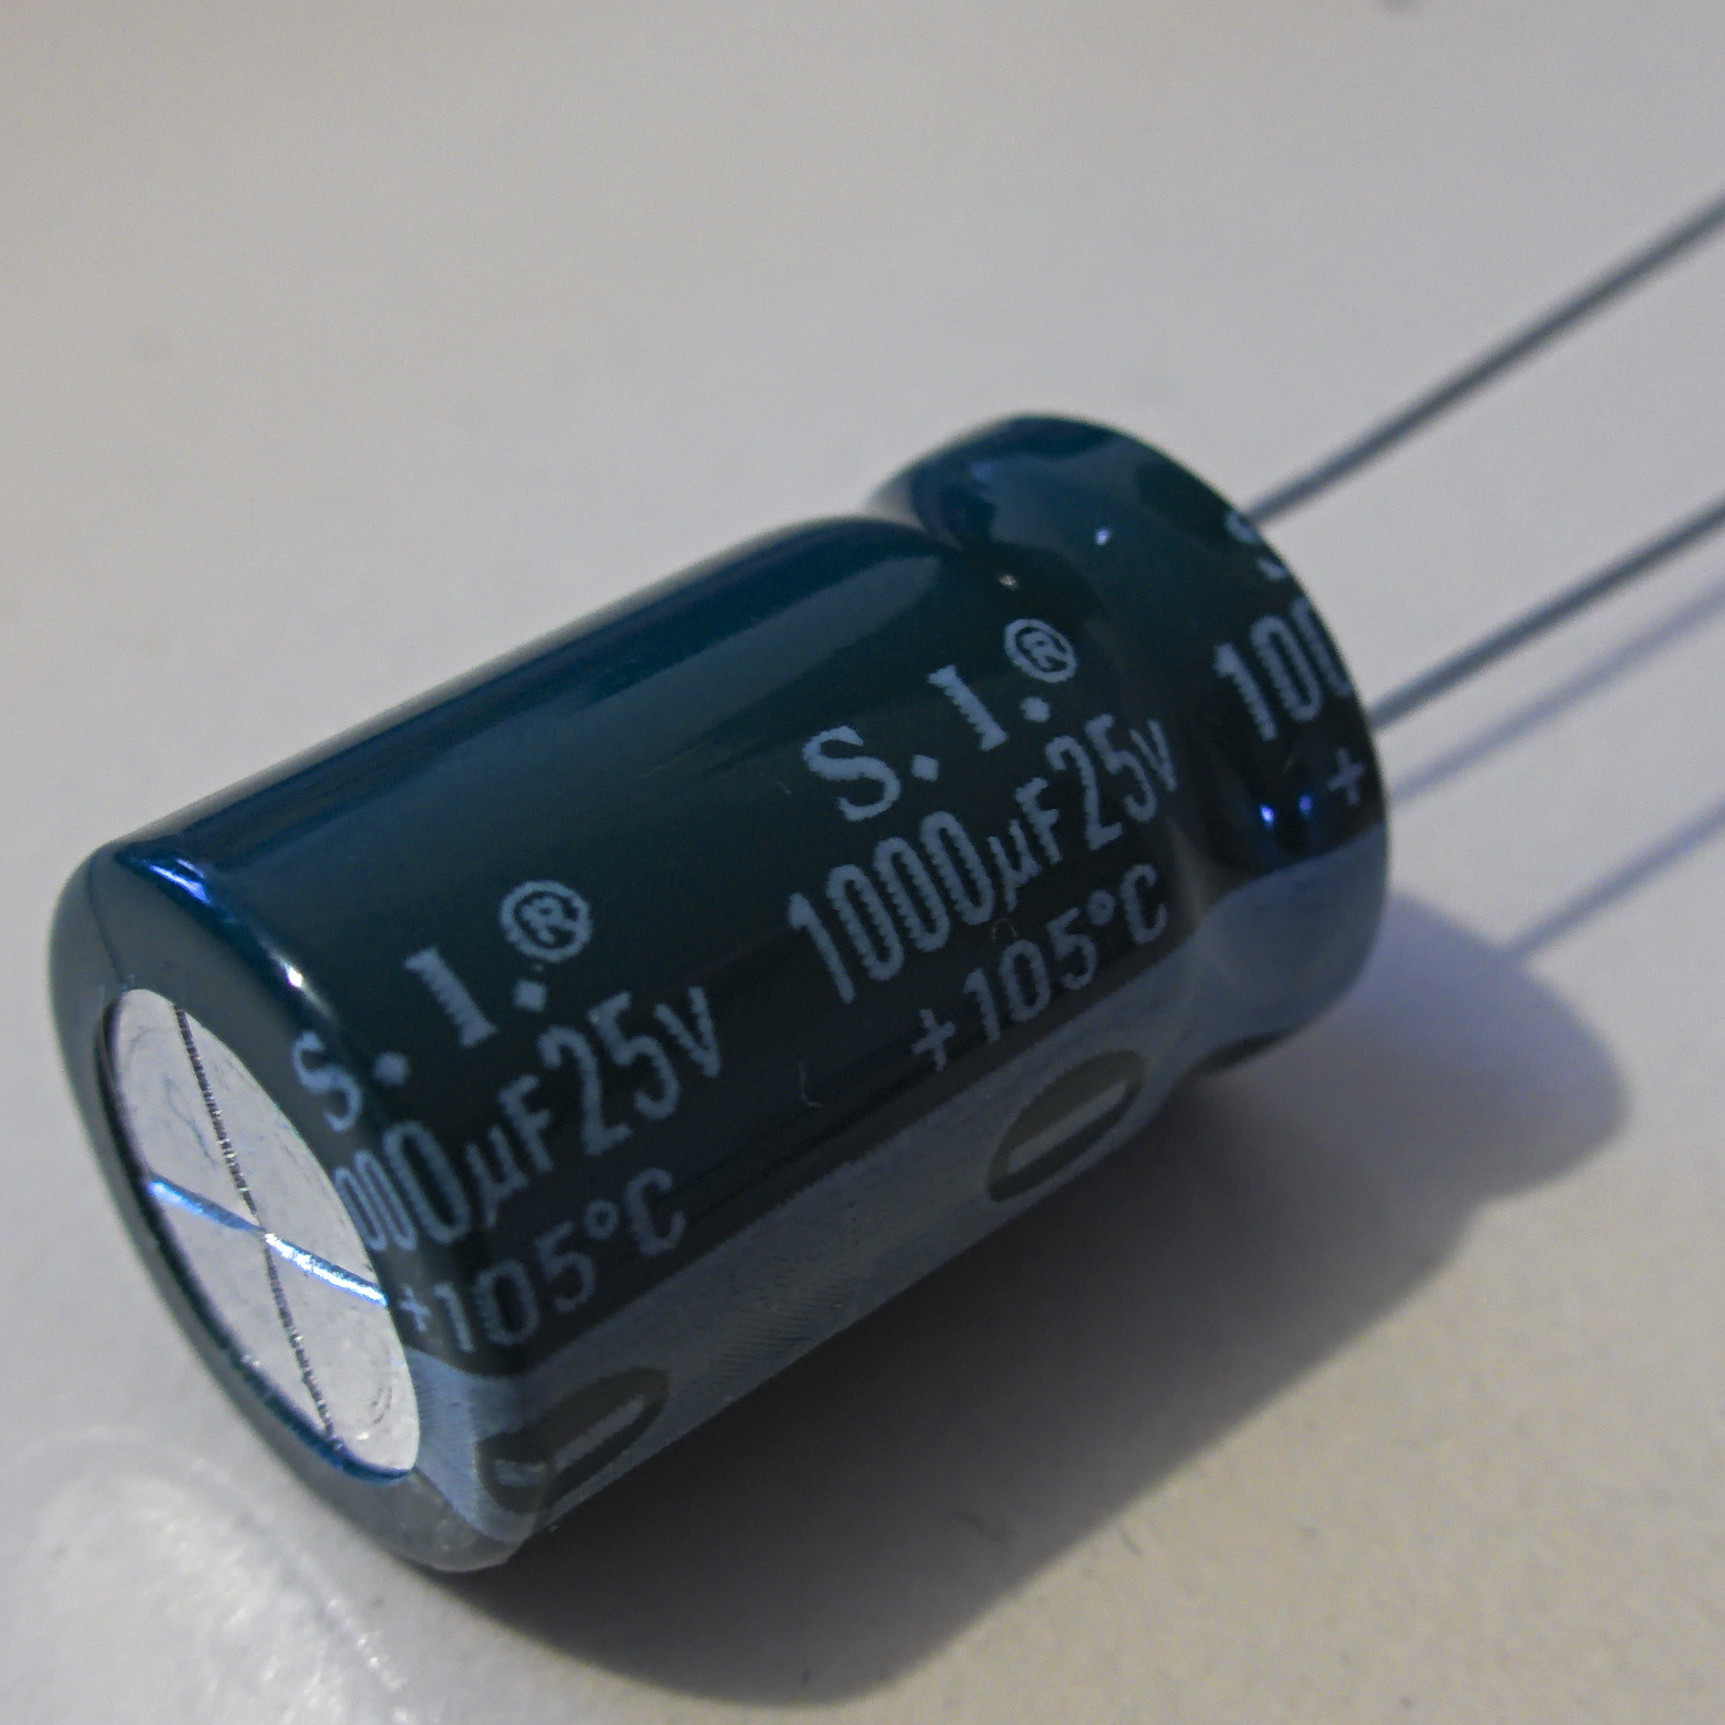Capacitor: (43, 412, 1392, 1577)
